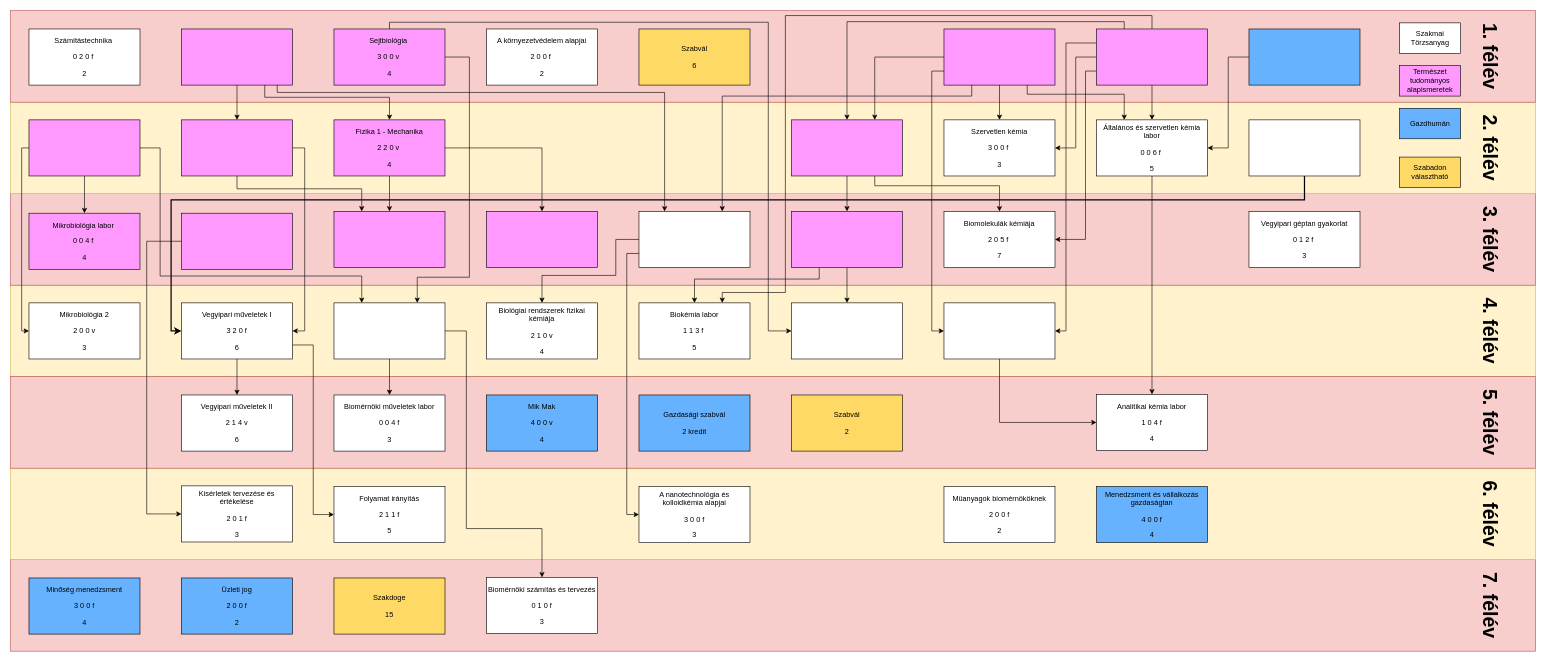
Some shapes in this 1546 by 662 pixel diagram are drawn without their labels. The shapes that lost their labels are listed below. From the top down, each one's centre as x and y in pixels, then its label:
the point at 236,56: Matematika A1 - Analízis 4 2 0 v 6
the point at 999,56: Általános Kémia 4 0 0 v 5
the point at 1151,56: Általános Kémia gyakorlat Biomérnököknek 0 3 0 f 4
the point at 1304,56: Biztonságtechnika és munkavédelem 2 0 0 f 2
the point at 84,147: Mikrobiológia 2 0 0 f 3
the point at 236,147: Matematika A2c 4 2 0 v 6
the point at 846,147: Szerves kémia biomérnököknek 3 2 0 v 6
the point at 1304,147: Vegyipari géptan 2 0 0 f 2
the point at 236,241: Matematika A3c vegyész és biomérnököknek 2 2 0 v 4
the point at 389,239: Fizika 1 Elektrodinamika 2 0 0 v 2
the point at 541,239: Fizikai laboratóriumi gyakorlatoka 0 0 3 f 2
the point at 694,239: Fizikai kémia I. 3 1 0 v 5
the point at 846,239: Biokémia 3 0 0 v 4
the point at 389,330: Biomérnöki műveletek folyamatok 4 0 0 v 5
the point at 846,330: Általános genetika 3 2 0 f 6
the point at 999,330: Analitikai kémia I. 4 0 0 f 5
